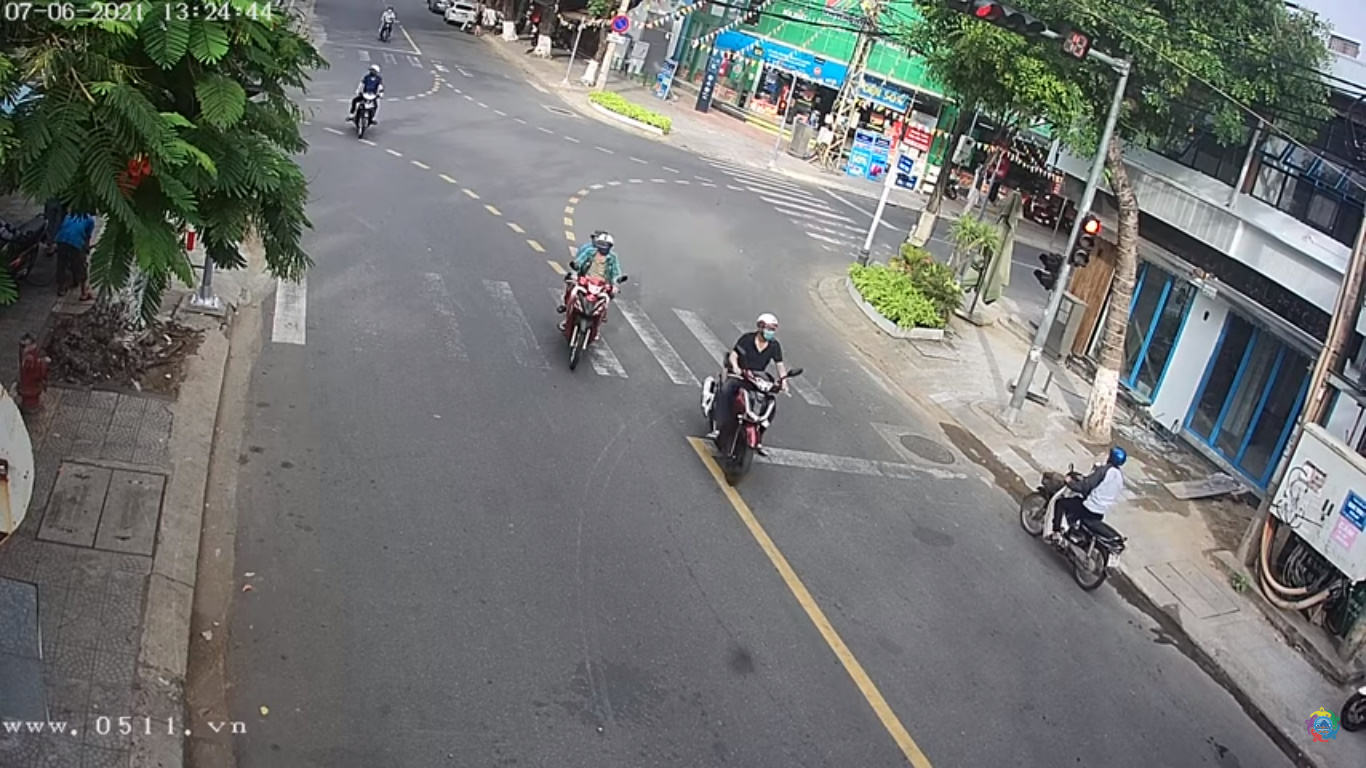motorbike: (706, 306, 792, 480), (552, 229, 632, 370)
